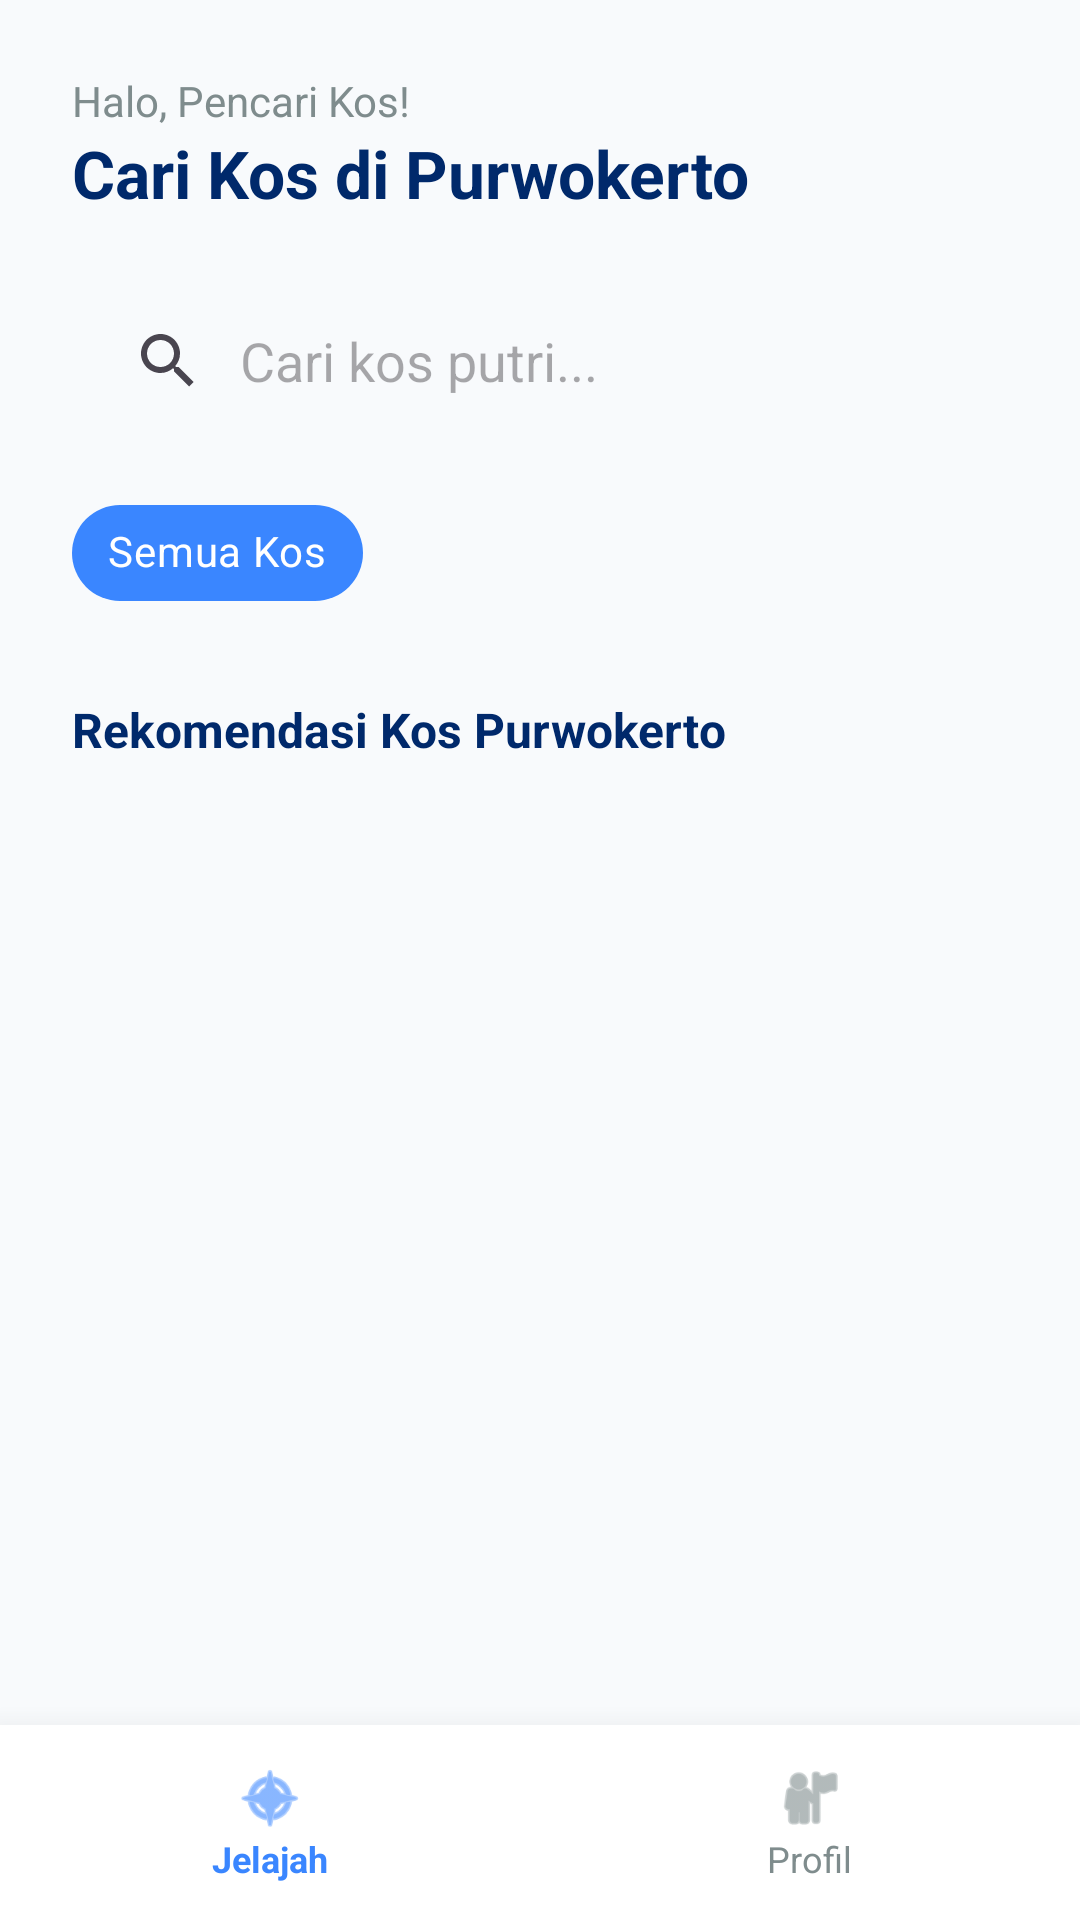

Icons on this 1080×1920 Android screen, each with its box as (x1, y1, x2, y2):
compass: (241, 1770, 298, 1827)
myplaces: (784, 1771, 838, 1825)
